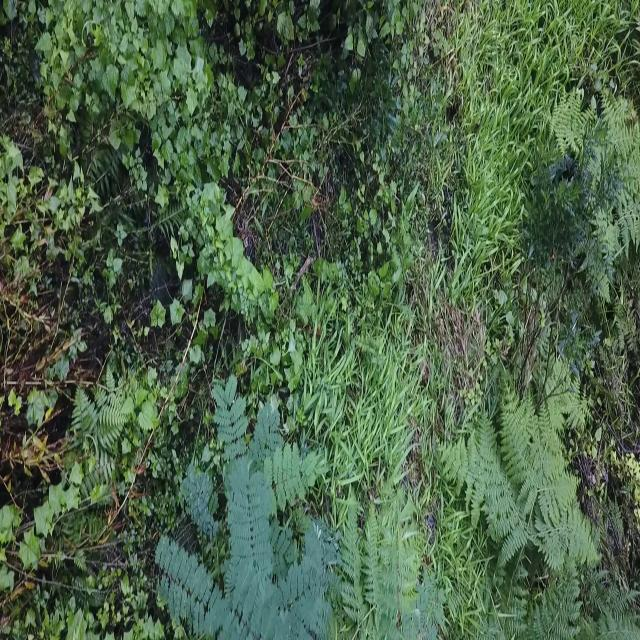Mysore-Thorn-Weed: (143, 376, 338, 640)
